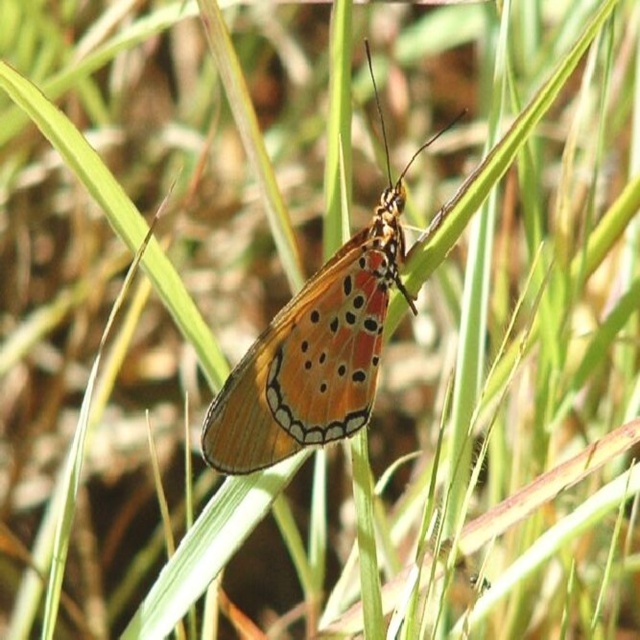Butterfly: (202, 51, 424, 495)
